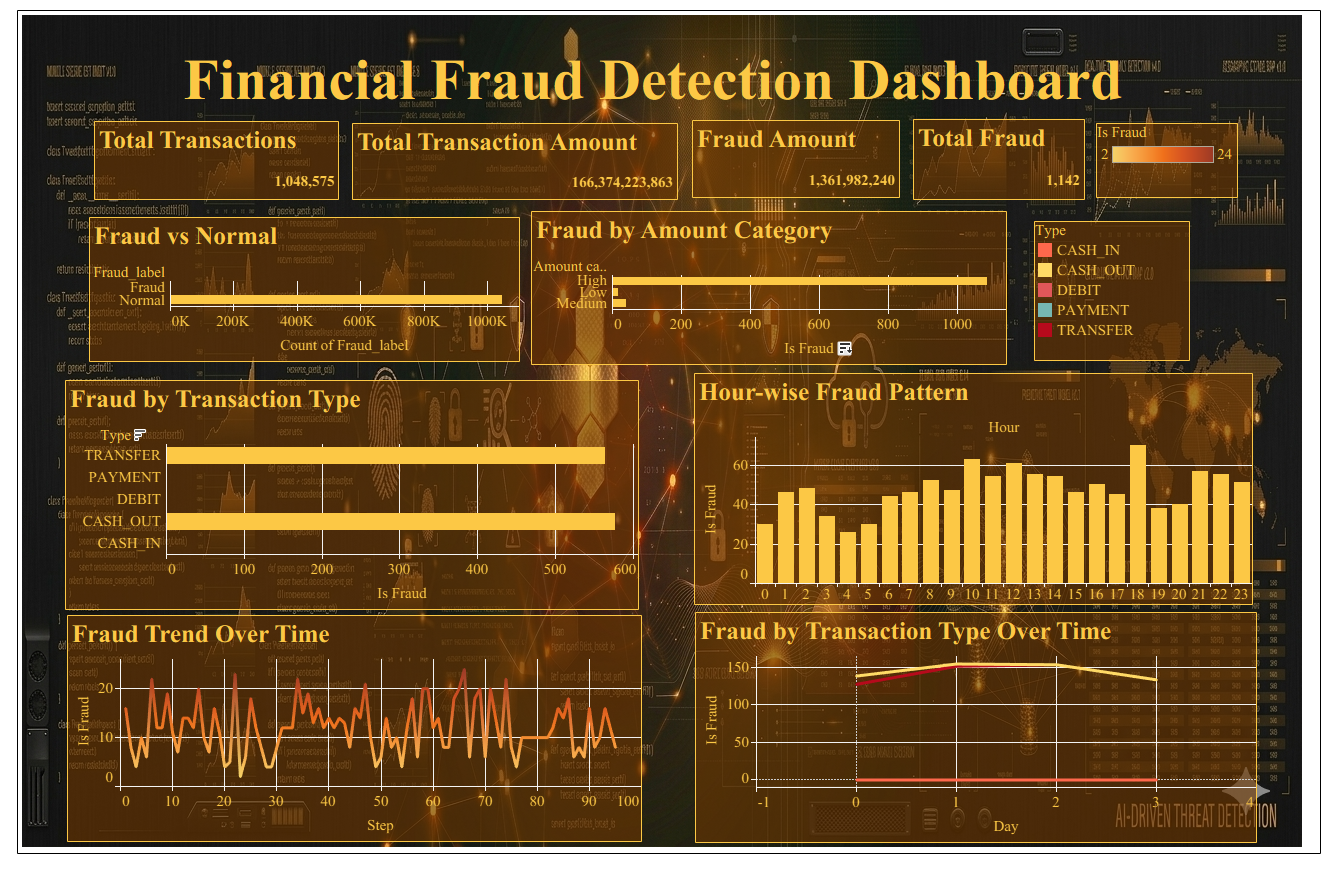

The dashboard page shown, as its layout file describes it:
{"tool":"tableau","page":{"name":"Dashboard 1","canvas":[1000,1000],"units":"permille","ordinal":0},"visuals":[{"type":"image","param":"C:/Users/anjan/Downloads/Gemini_Generated_Image_88gt9m88gt9m88gt.png","box":[6.8,10.6,986.4,978.9]},{"type":"title","box":[25.8,39.9,924.2,95.1]},{"type":"worksheet","title":"Sheet 7","mark":"Automatic","box":[684.9,136.2,130.3,93.9]},{"type":"worksheet","title":"Sheet 10","mark":"Automatic","box":[517.4,137.3,157.6,90.4]},{"type":"worksheet","title":"Sheet 8","mark":"Automatic","box":[64.4,138.5,185.6,91.5]},{"type":"worksheet","title":"Sheet 9","mark":"Automatic","box":[259.9,140.8,247,89.2]},{"type":"legend","title":"Sheet 3","param":"[federated.1n4d1n10jidqv315h5fn50ygllpl].[sum:isFraud:qk]","box":[823.5,140.8,107.6,86.9]},{"type":"worksheet","title":"Sheet 4","mark":"Automatic","rows":["Calculation_1897537536856067"],"cols":["isFraud"],"box":[395.4,243,360.6,179.6]},{"type":"worksheet","title":"Sheet 1","mark":"Automatic","rows":["Calculation_1897537536434176"],"cols":["Calculation_1897537536434176"],"box":[60.6,250,326.5,169]},{"type":"legend","title":"Sheet 5","param":"[federated.1n4d1n10jidqv315h5fn50ygllpl].[none:type:nk]","box":[776.5,254.7,118.2,163.2]},{"type":"worksheet","title":"Sheet 6","mark":"Automatic","rows":["isFraud"],"cols":["Calculation_1897537536774146"],"box":[518.9,431.9,423.5,269.9]},{"type":"worksheet","title":"Sheet 2","mark":"Automatic","rows":["type"],"cols":["isFraud"],"box":[42.4,439,434.9,267.6]},{"type":"worksheet","title":"Sheet 5","mark":"Automatic","rows":["isFraud"],"cols":["Calculation_1897537536651265"],"box":[519.7,708.9,425.8,268.8]},{"type":"worksheet","title":"Sheet 3","mark":"Line","rows":["isFraud"],"cols":["step"],"box":[43.9,712.4,435.6,264.1]}]}

Visuals, with their boxes on the dashboard's canvas, which has no fixed pixel size, in thousandths of its width and height (x1, y1, x2, y2). These are canvas units, not pixel positions in the 1338x869 screenshot, which may show the page scaled, cropped or inside an application window:
image: select_region(7, 11, 993, 990)
title: select_region(26, 40, 950, 135)
"Sheet 7" worksheet: select_region(685, 136, 815, 230)
"Sheet 10" worksheet: select_region(517, 137, 675, 228)
"Sheet 8" worksheet: select_region(64, 138, 250, 230)
"Sheet 9" worksheet: select_region(260, 141, 507, 230)
"Sheet 3" legend: select_region(824, 141, 931, 228)
"Sheet 4" worksheet: select_region(395, 243, 756, 423)
"Sheet 1" worksheet: select_region(61, 250, 387, 419)
"Sheet 5" legend: select_region(776, 255, 895, 418)
"Sheet 6" worksheet: select_region(519, 432, 942, 702)
"Sheet 2" worksheet: select_region(42, 439, 477, 707)
"Sheet 5" worksheet: select_region(520, 709, 946, 978)
"Sheet 3" worksheet (Line marks): select_region(44, 712, 480, 976)
